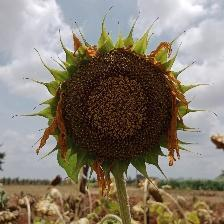sunflower: (24, 5, 219, 199)
